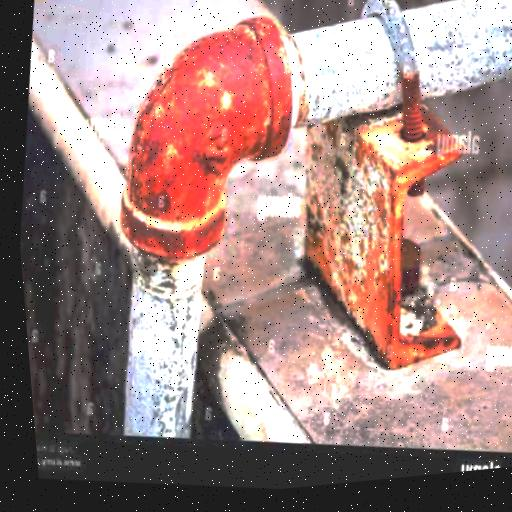corrosion: (96, 0, 319, 273), (371, 57, 440, 158), (366, 223, 439, 309)
